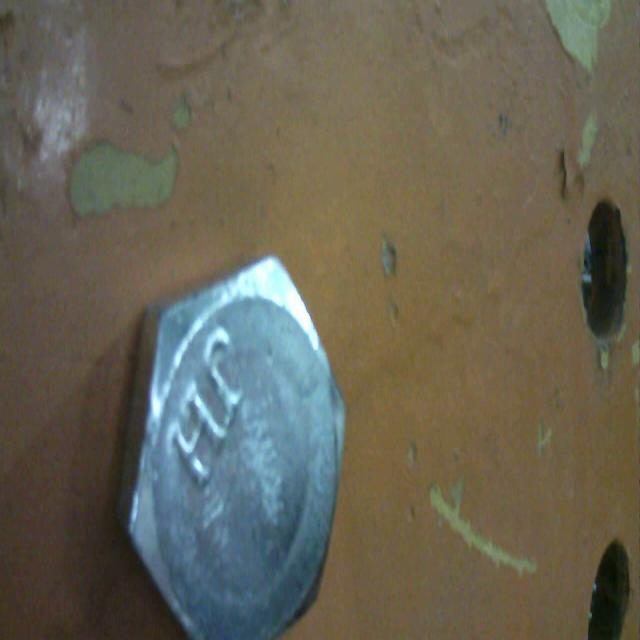Missing bolt: (581, 190, 637, 340), (589, 535, 636, 640)
Regular bolt: (111, 251, 354, 640)
